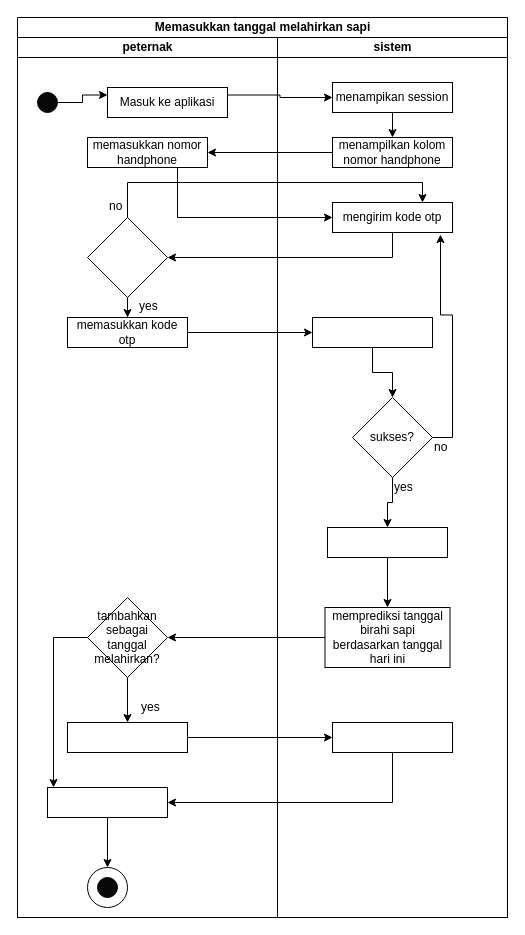
The diagram is 525 pixels wide and 935 high, and some of its shapes have lost their labels. Each missing label, with the centre of its shape:
"masukkan nama sapi" belongs at point 127,737.
"menampilkan halaman utama" belongs at point 387,542.
"menerima kode otp?" belongs at point 127,257.
"menyimpan data ke database" belongs at point 392,737.
"sign out" belongs at point 107,802.
"verifikasikode otp" belongs at point 372,332.
